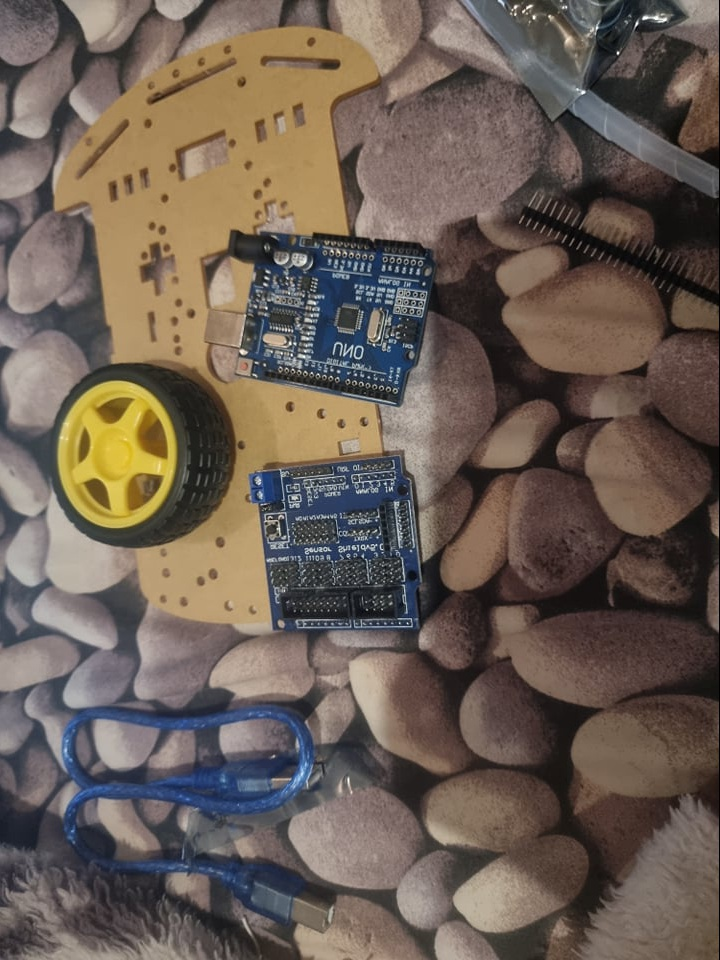5V EXPANSION: (250, 457, 423, 631)
UNO R3: (206, 228, 436, 408)
